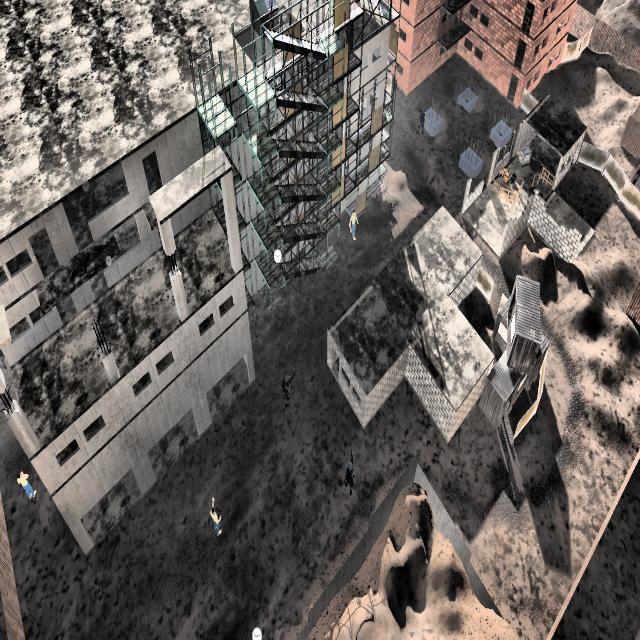bad: (339, 443, 362, 502), (277, 360, 296, 419), (415, 98, 427, 143)
good: (14, 457, 38, 511), (205, 486, 226, 547), (344, 200, 362, 250)
